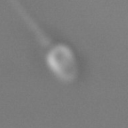normal: (8, 1, 53, 46)
